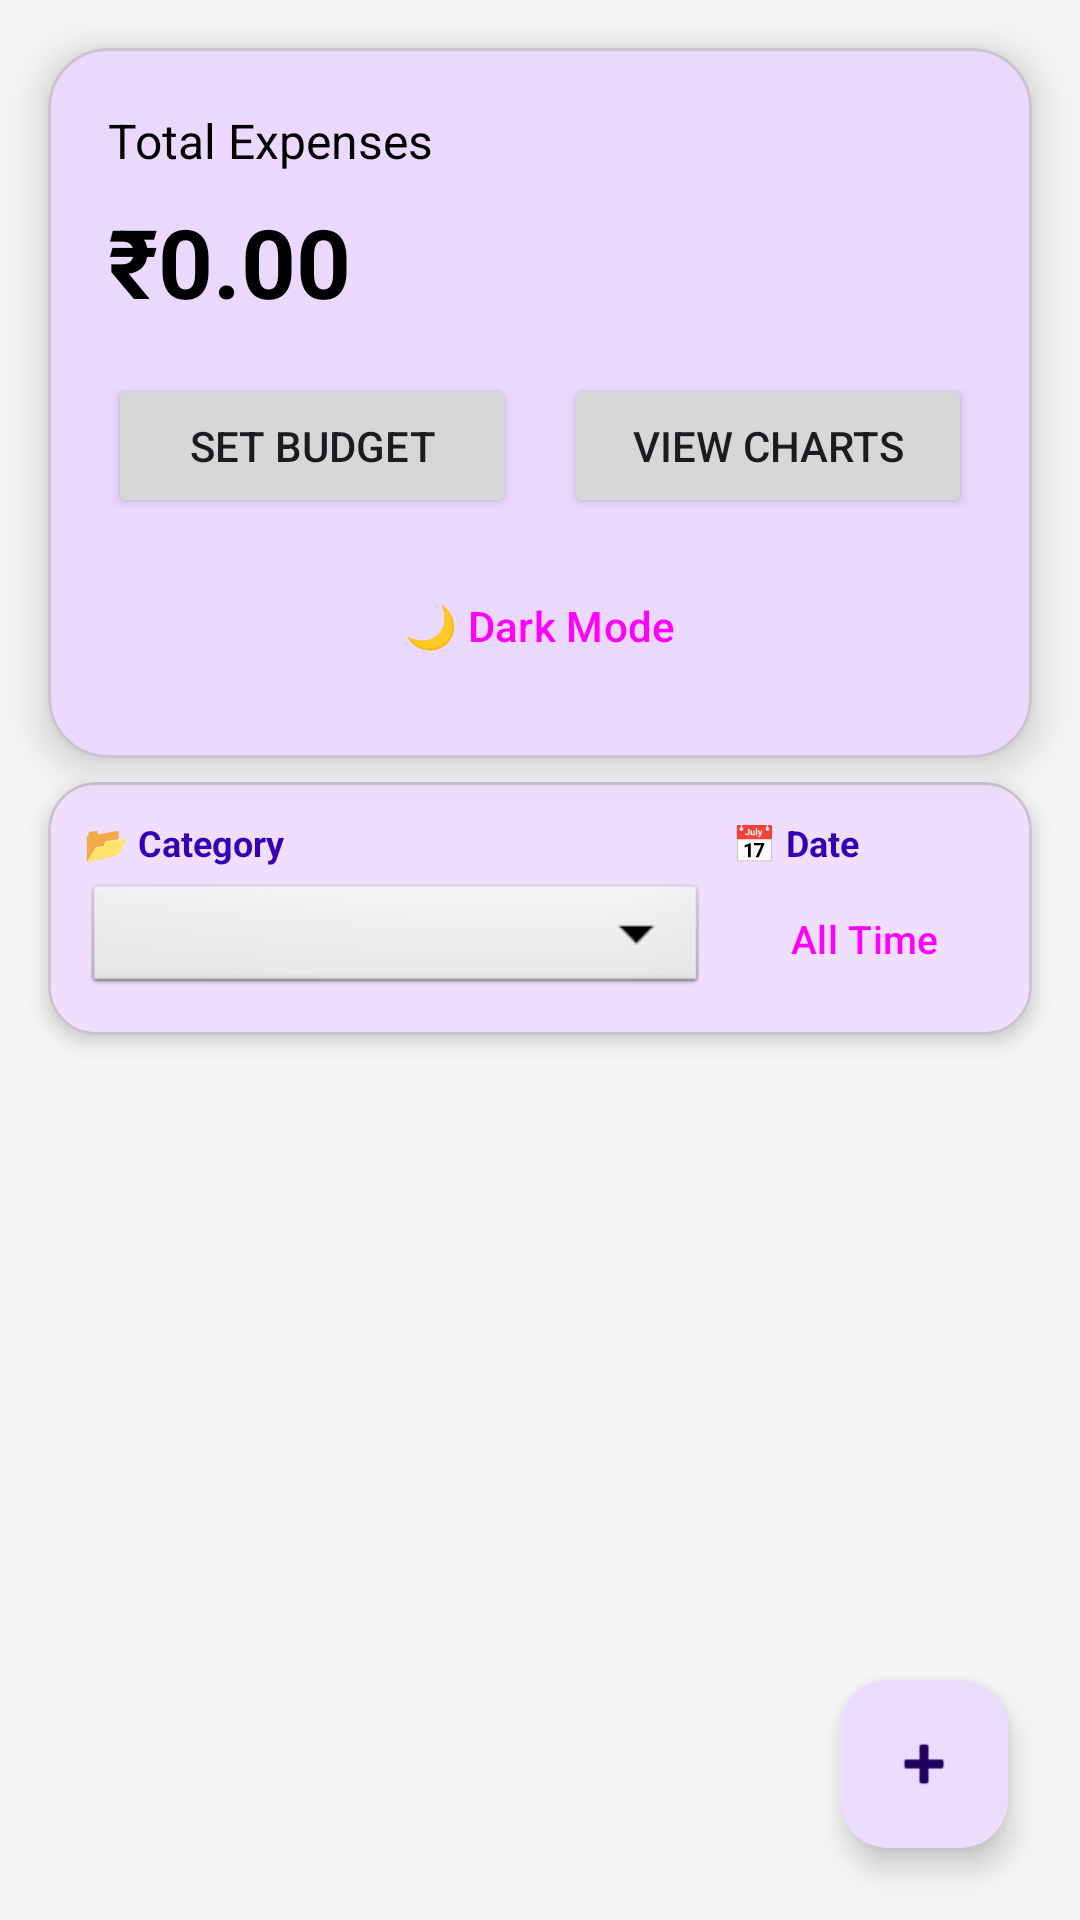

Icon bounding boxes for this 1080w x 1920h phone screenshot, format (x1, y1, x2, y2):
Add Expense: (840, 1680, 1008, 1848)
